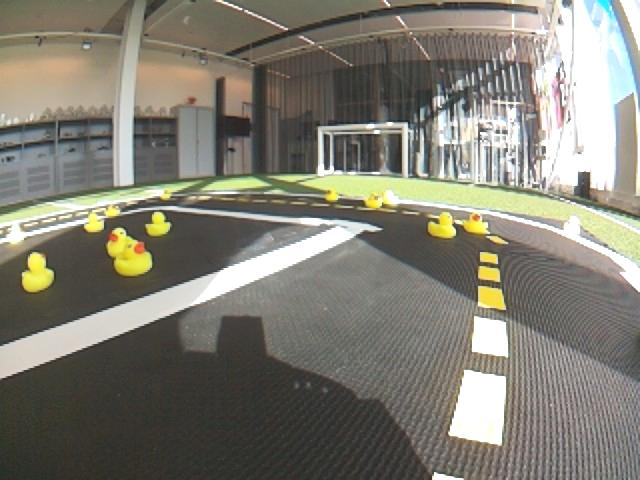Duckies: (21, 252, 55, 294), (115, 241, 152, 277), (106, 226, 139, 257), (428, 212, 456, 238), (145, 212, 171, 235), (463, 213, 487, 233), (84, 214, 103, 232), (365, 193, 381, 208), (382, 190, 399, 204), (105, 205, 122, 217), (325, 189, 339, 201), (160, 189, 171, 200)
